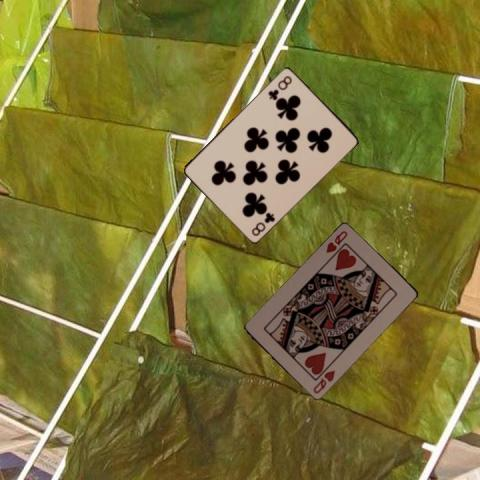8c: (266, 72, 294, 100), (249, 210, 276, 238)
Qh: (310, 368, 337, 396), (322, 228, 348, 255)
